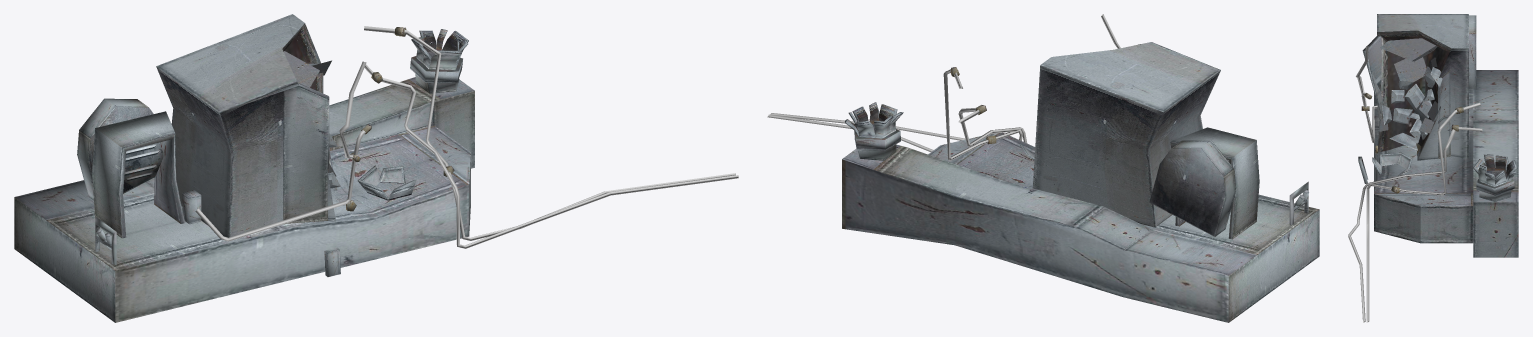
Rendered from Air_system.fbx.
The picture shows the model from 3 angles, left to right: view 1: azimuth 30°, elevation 25°; view 2: azimuth 150°, elevation 25°; view 3: azimuth 270°, elevation 25°; orthographic projection. The views are drawn at different scales.
Parts seen in each view (by area): view 1: Air_system; view 2: Air_system; view 3: Air_system.
Part boxes in pixels (<box>): Air_system: <box>14,14,738,322</box>; Air_system: <box>767,14,1319,322</box>; Air_system: <box>1348,14,1518,322</box>.
Bounding box in the file's own units: 998 × 318 × 333.
